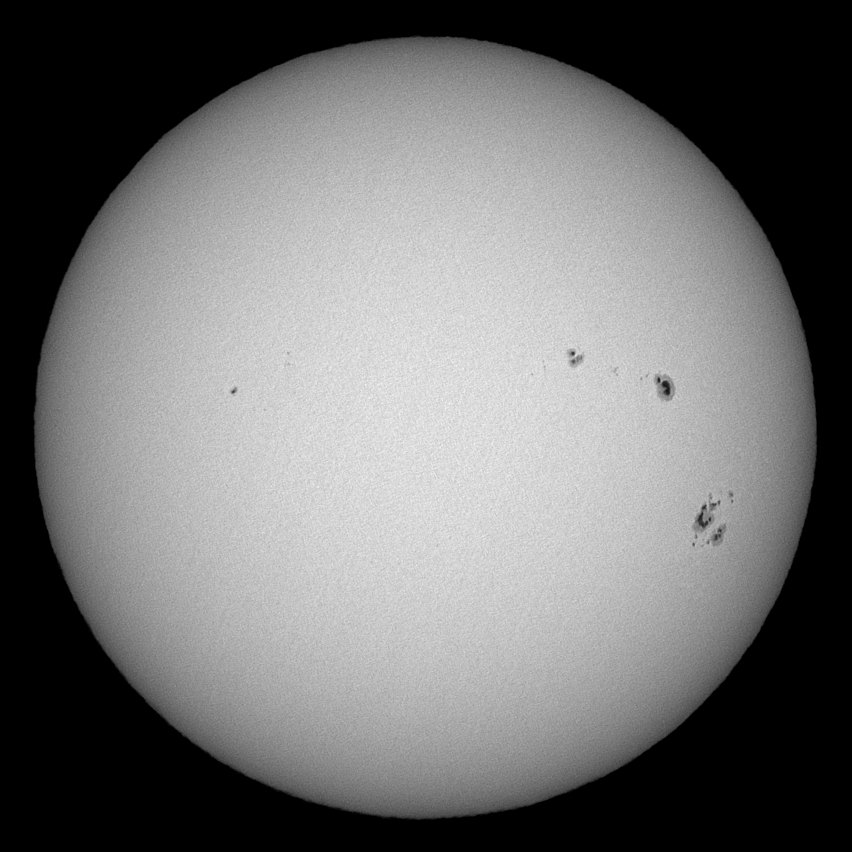sunspot: (689, 487, 739, 550), (650, 368, 679, 404), (564, 343, 585, 369), (225, 382, 242, 397)
